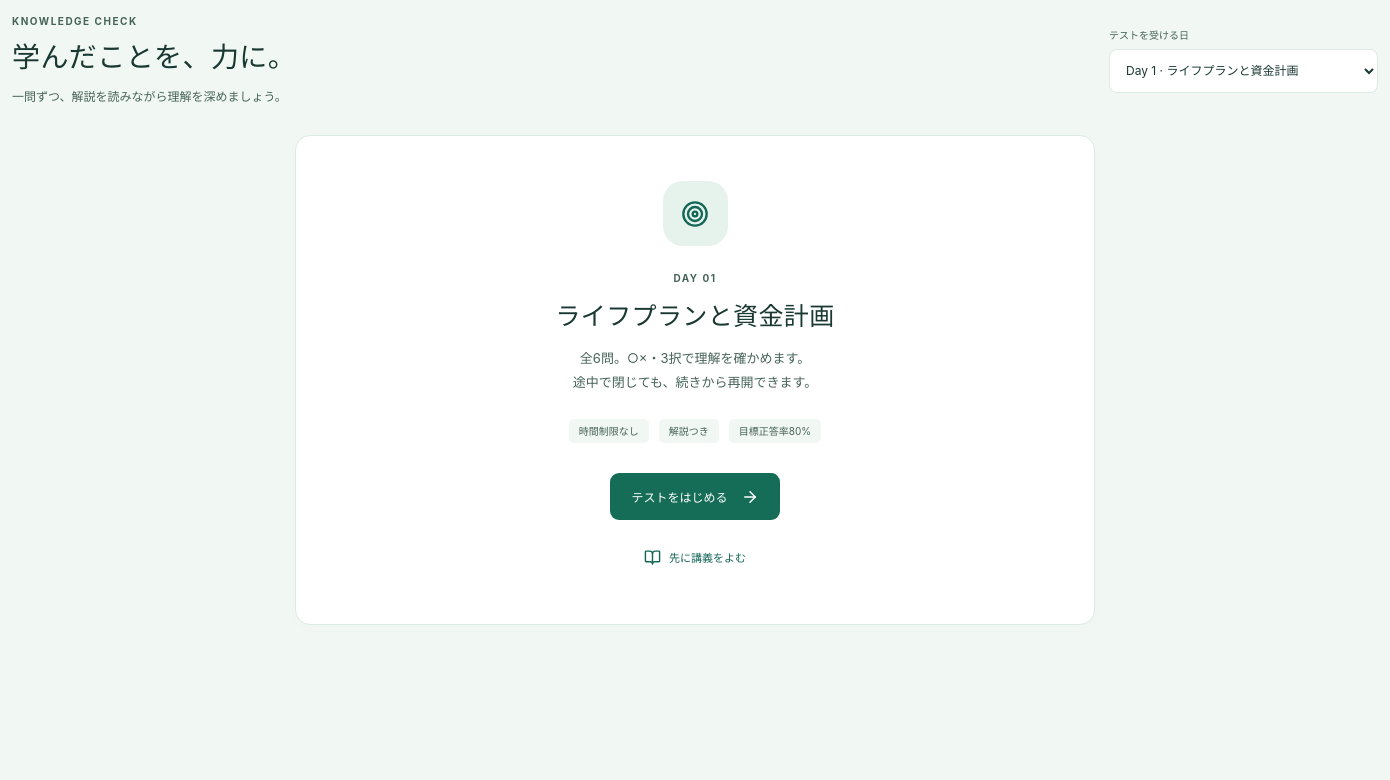
○×の採点と解説を再マウント後も復元し、次の三択問題へ進める
Later steps or results of the test are not shown.
Click the button "テストをはじめる". click: (695, 497)
box: x1=610 y1=473 x2=780 y2=520
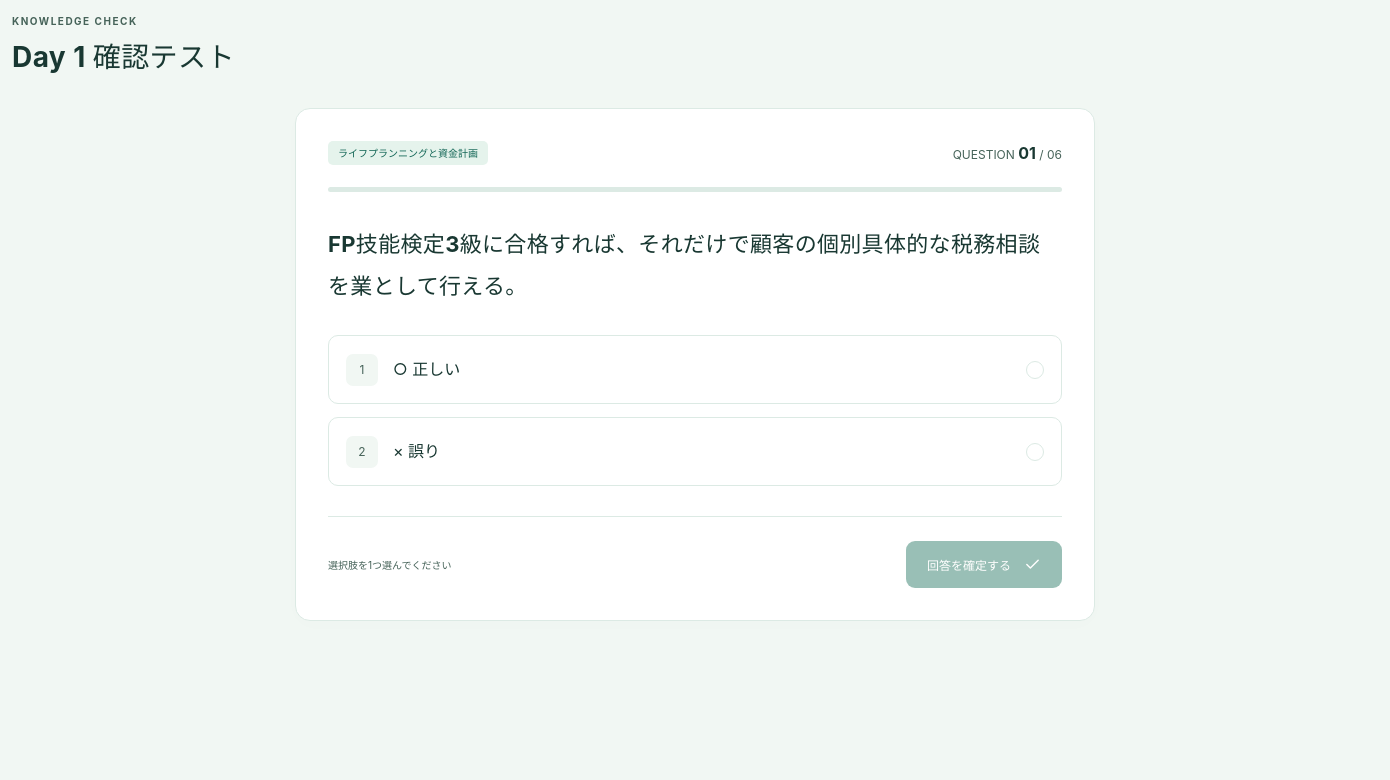
Expected: the button "回答を確定する" is disabled, x1=906 y1=541 x2=1062 y2=588
Click the radio button labelled "2 × 誤り". click: (362, 452)
box: x1=328 y1=417 x2=1062 y2=486
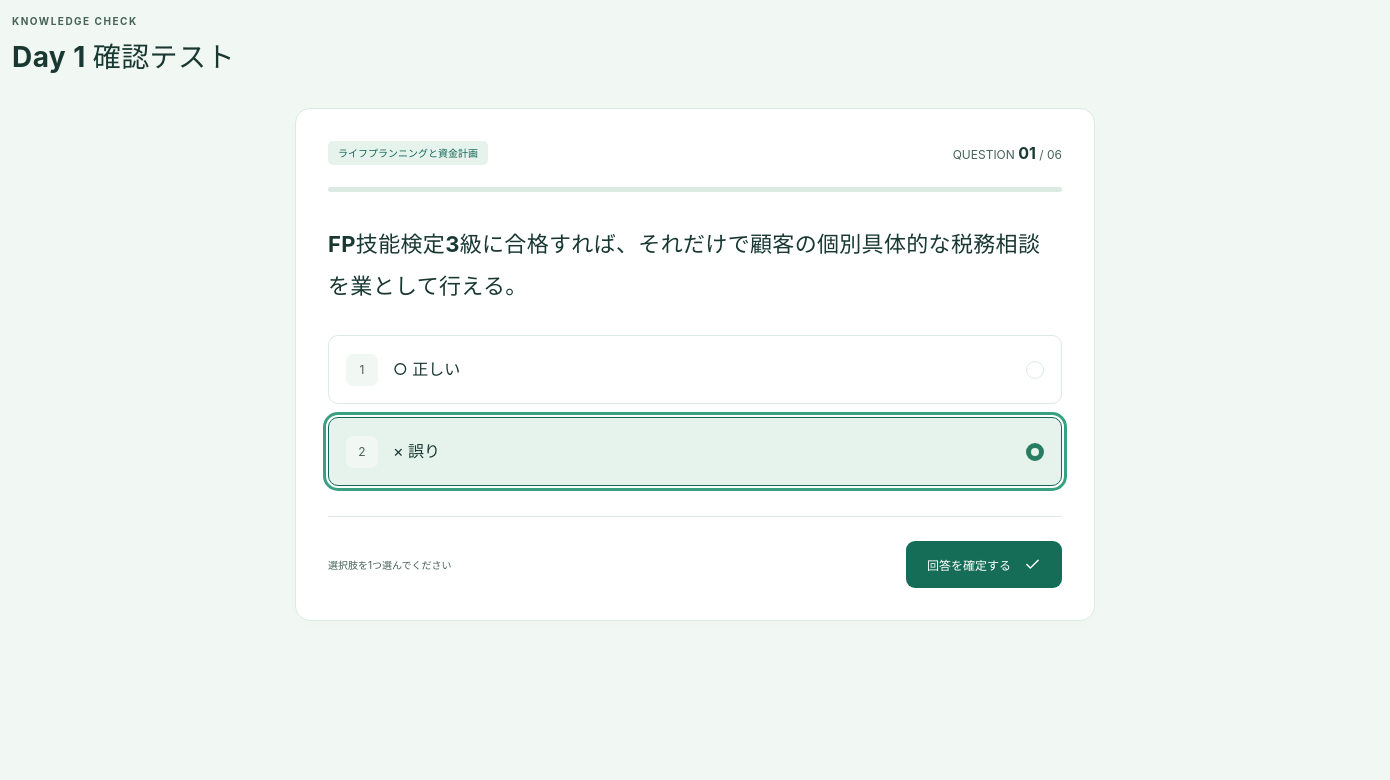
Click the button "回答を確定する". click: (984, 565)
box: x1=906 y1=541 x2=1062 y2=588
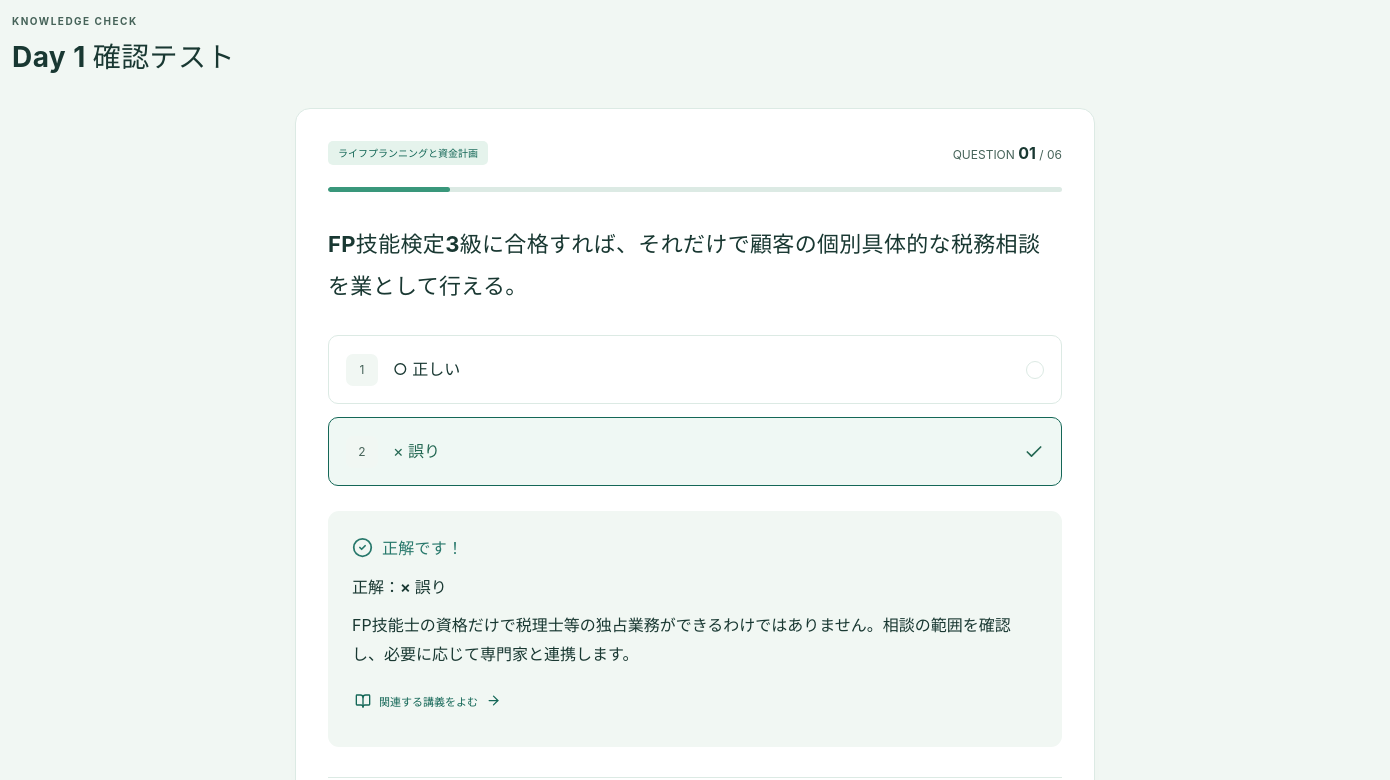
Expected: the heading "正解です！" is shown, x1=352 y1=537 x2=463 y2=558
Expected: the text "FP技能士の資格だけで税理士等の独占業務ができるわけではありません。相談の範囲を確認し、必要に応じて専門家と連携します。" is shown, x1=352 y1=611 x2=1038 y2=669
